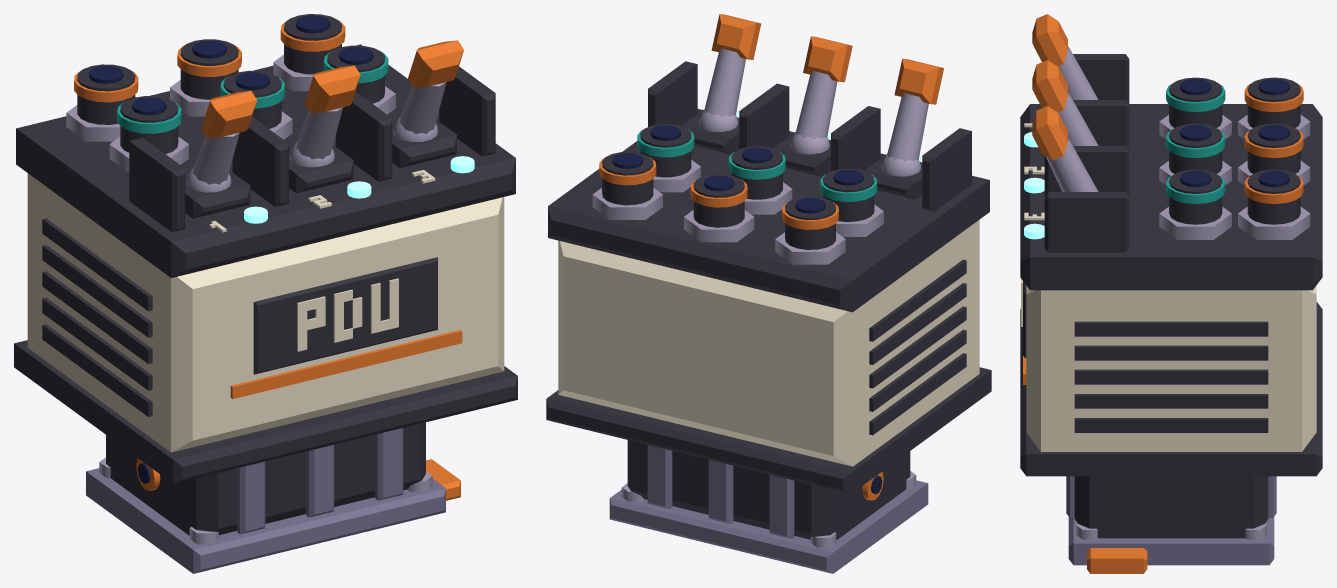
Rendered from pdu.glb.
3 views of the same model, side by side, from view 1: azimuth 30°, elevation 25°; view 2: azimuth 150°, elevation 25°; view 3: azimuth 270°, elevation 25° (orthographic). The views are drawn at different scales.
Visible parts, largest first — view 1: box_graphite, box_creamHull, pedestal_graphite, plate_purpleGrey, plate_purpleGreyLight, plate_orange, box_orange, pedestal_navy, switch_2_orange, switch_3_orange, switch_1_orange, top_teal (+4 smaller); view 2: box_creamHull, box_graphite, pedestal_graphite, plate_purpleGrey, plate_purpleGreyLight, pedestal_navy, plate_orange, top_teal, switch_3_purpleGreyLight, switch_2_purpleGreyLight, switch_1_purpleGreyLight, switch_2_orange (+2 smaller); view 3: box_graphite, box_creamHull, pedestal_graphite, plate_purpleGrey, plate_purpleGreyLight, plate_orange, pedestal_navy, top_teal, switch_3_orange, switch_1_orange, switch_2_orange, switch_3_purpleGreyLight (+3 smaller).
Boxes of the visible parts, x1=… form: box_graphite: x1=14, y1=44, x2=517, y2=483; box_creamHull: x1=27, y1=173, x2=504, y2=452; pedestal_graphite: x1=77, y1=14, x2=495, y2=535; plate_purpleGrey: x1=86, y1=428, x2=445, y2=573; plate_purpleGreyLight: x1=66, y1=54, x2=438, y2=544; plate_orange: x1=74, y1=20, x2=460, y2=500; box_orange: x1=230, y1=329, x2=462, y2=398; pedestal_navy: x1=89, y1=15, x2=373, y2=483; switch_2_orange: x1=304, y1=65, x2=360, y2=113; switch_3_orange: x1=408, y1=40, x2=463, y2=87; switch_1_orange: x1=201, y1=91, x2=257, y2=138; top_teal: x1=117, y1=51, x2=388, y2=133; box_creamHull: x1=558, y1=220, x2=979, y2=466; box_graphite: x1=546, y1=109, x2=991, y2=494; pedestal_graphite: x1=602, y1=61, x2=971, y2=540; plate_purpleGrey: x1=609, y1=445, x2=928, y2=573; plate_purpleGreyLight: x1=592, y1=110, x2=921, y2=547; pedestal_navy: x1=612, y1=125, x2=882, y2=494; plate_orange: x1=599, y1=157, x2=883, y2=500; top_teal: x1=637, y1=129, x2=877, y2=201; switch_3_purpleGreyLight: x1=704, y1=48, x2=745, y2=116; switch_2_purpleGreyLight: x1=795, y1=70, x2=837, y2=139; switch_1_purpleGreyLight: x1=887, y1=93, x2=928, y2=161; switch_2_orange: x1=803, y1=36, x2=852, y2=82; box_graphite: x1=1020, y1=104, x2=1322, y2=476; box_creamHull: x1=1021, y1=278, x2=1316, y2=451; pedestal_graphite: x1=1044, y1=54, x2=1300, y2=538; plate_purpleGrey: x1=1066, y1=476, x2=1276, y2=565; plate_purpleGreyLight: x1=1076, y1=115, x2=1310, y2=539; plate_orange: x1=1087, y1=84, x2=1303, y2=573; pedestal_navy: x1=1180, y1=79, x2=1289, y2=187; top_teal: x1=1166, y1=84, x2=1225, y2=203; switch_3_orange: x1=1032, y1=106, x2=1067, y2=160; switch_1_orange: x1=1032, y1=14, x2=1067, y2=66; switch_2_orange: x1=1032, y1=60, x2=1067, y2=112; switch_3_purpleGreyLight: x1=1046, y1=138, x2=1098, y2=191.
Size of the model in its own units: 0.3 by 0.4019 by 0.25.
